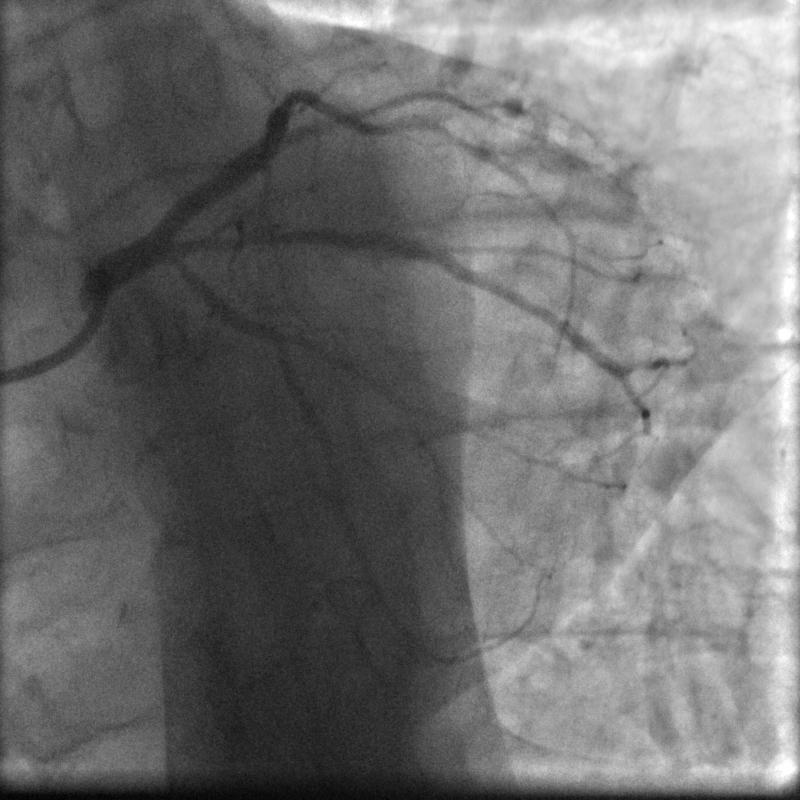Stenosis: (270, 83, 327, 117)
